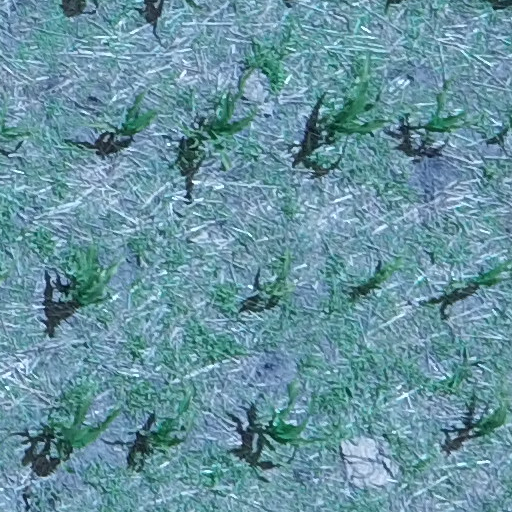planta: (178, 66, 257, 169), (321, 52, 396, 147), (44, 391, 120, 459), (53, 235, 124, 306), (267, 379, 325, 453), (86, 92, 156, 137), (142, 396, 188, 447), (443, 259, 511, 293), (257, 249, 295, 305), (424, 95, 464, 134), (358, 258, 403, 289), (475, 393, 506, 436)
